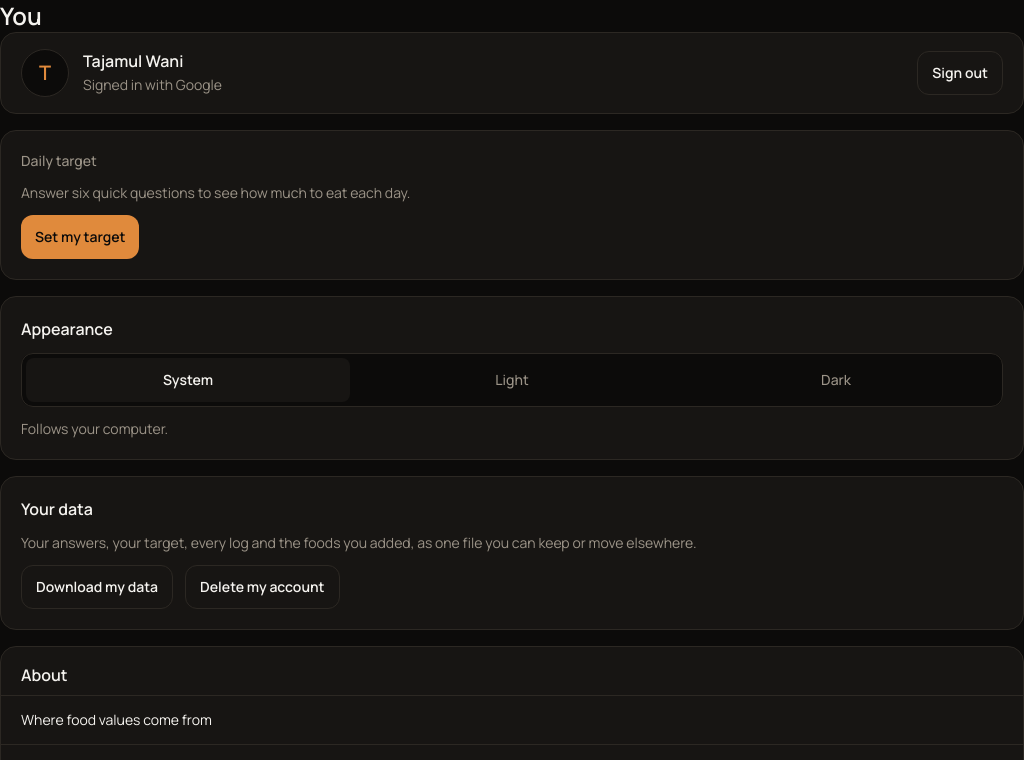
YouScreen › renders the appearance theme selector and toggles preferences
Check: the heading "Appearance" is shown, box top-left (21, 318), bottom-right (113, 340)
Click the button "Light" at (512, 380), box top-left (350, 358), bottom-right (674, 402)
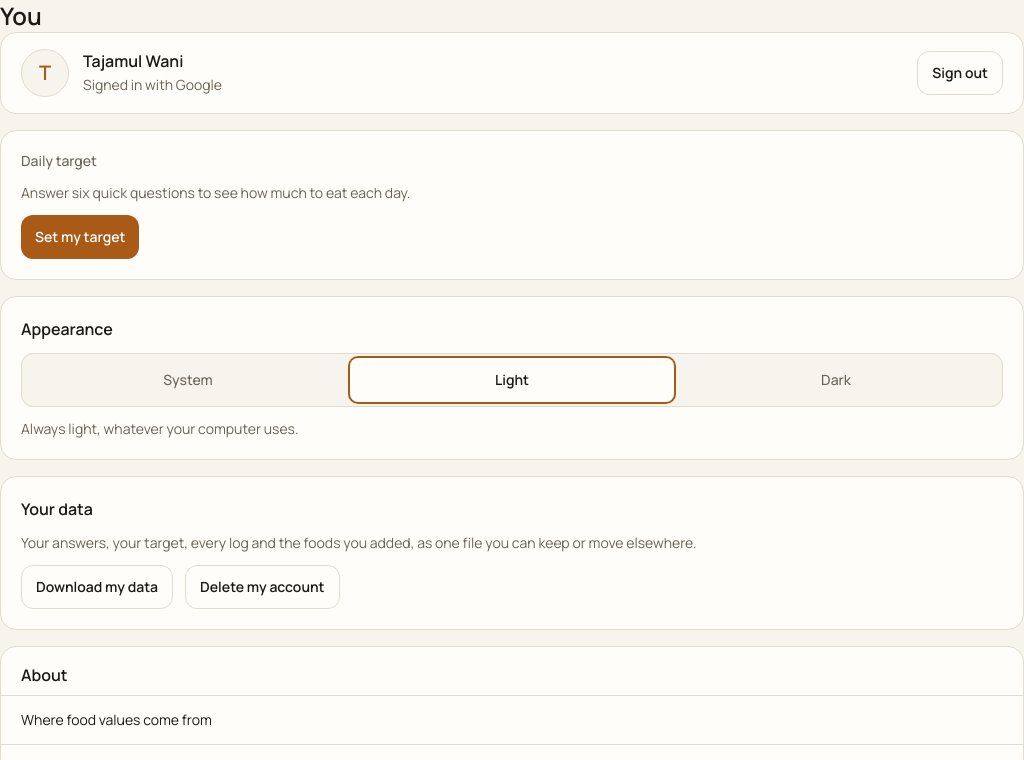
Check: the button "Light" is pressed, box top-left (350, 358), bottom-right (674, 402)
Click the button "Dark" at (836, 380), box top-left (674, 358), bottom-right (998, 402)
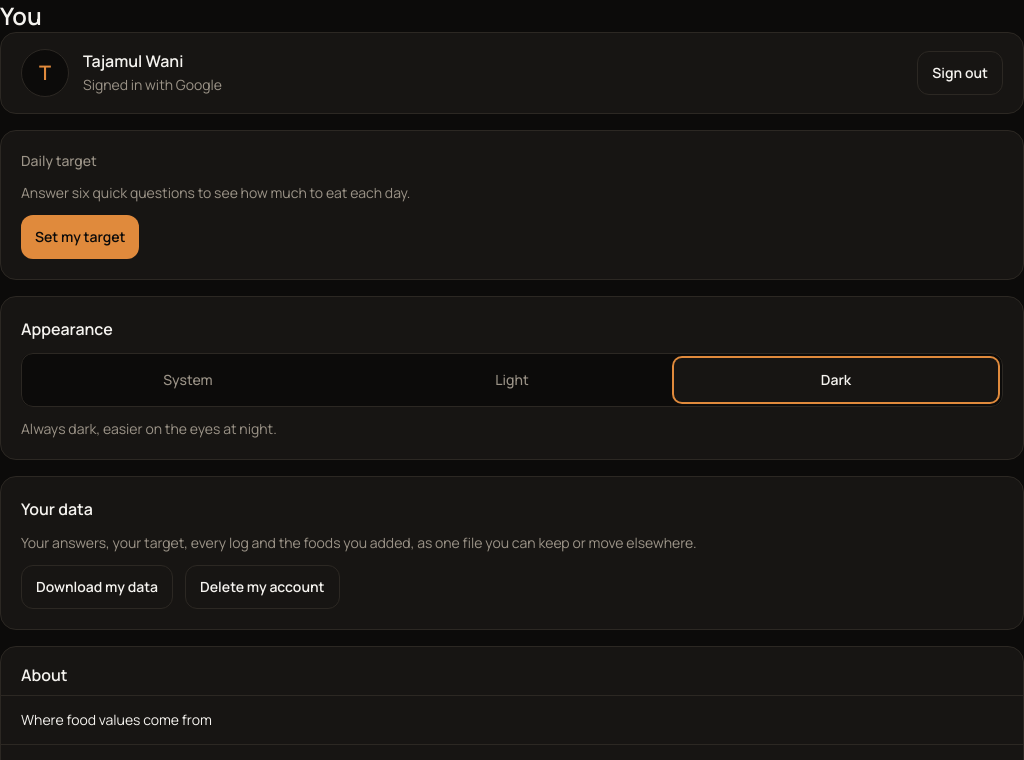
Check: the button "Dark" is pressed, box top-left (674, 358), bottom-right (998, 402)
